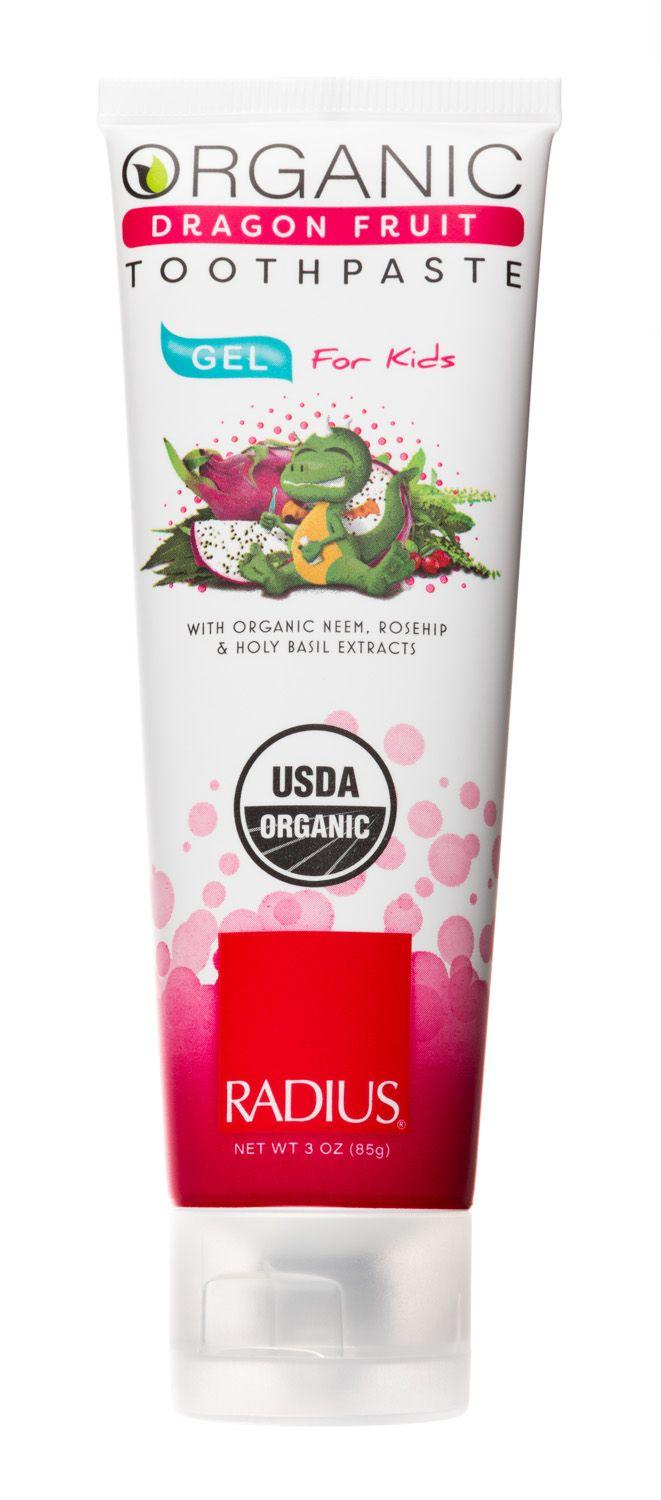toothpaste: (73, 63, 562, 1464)
